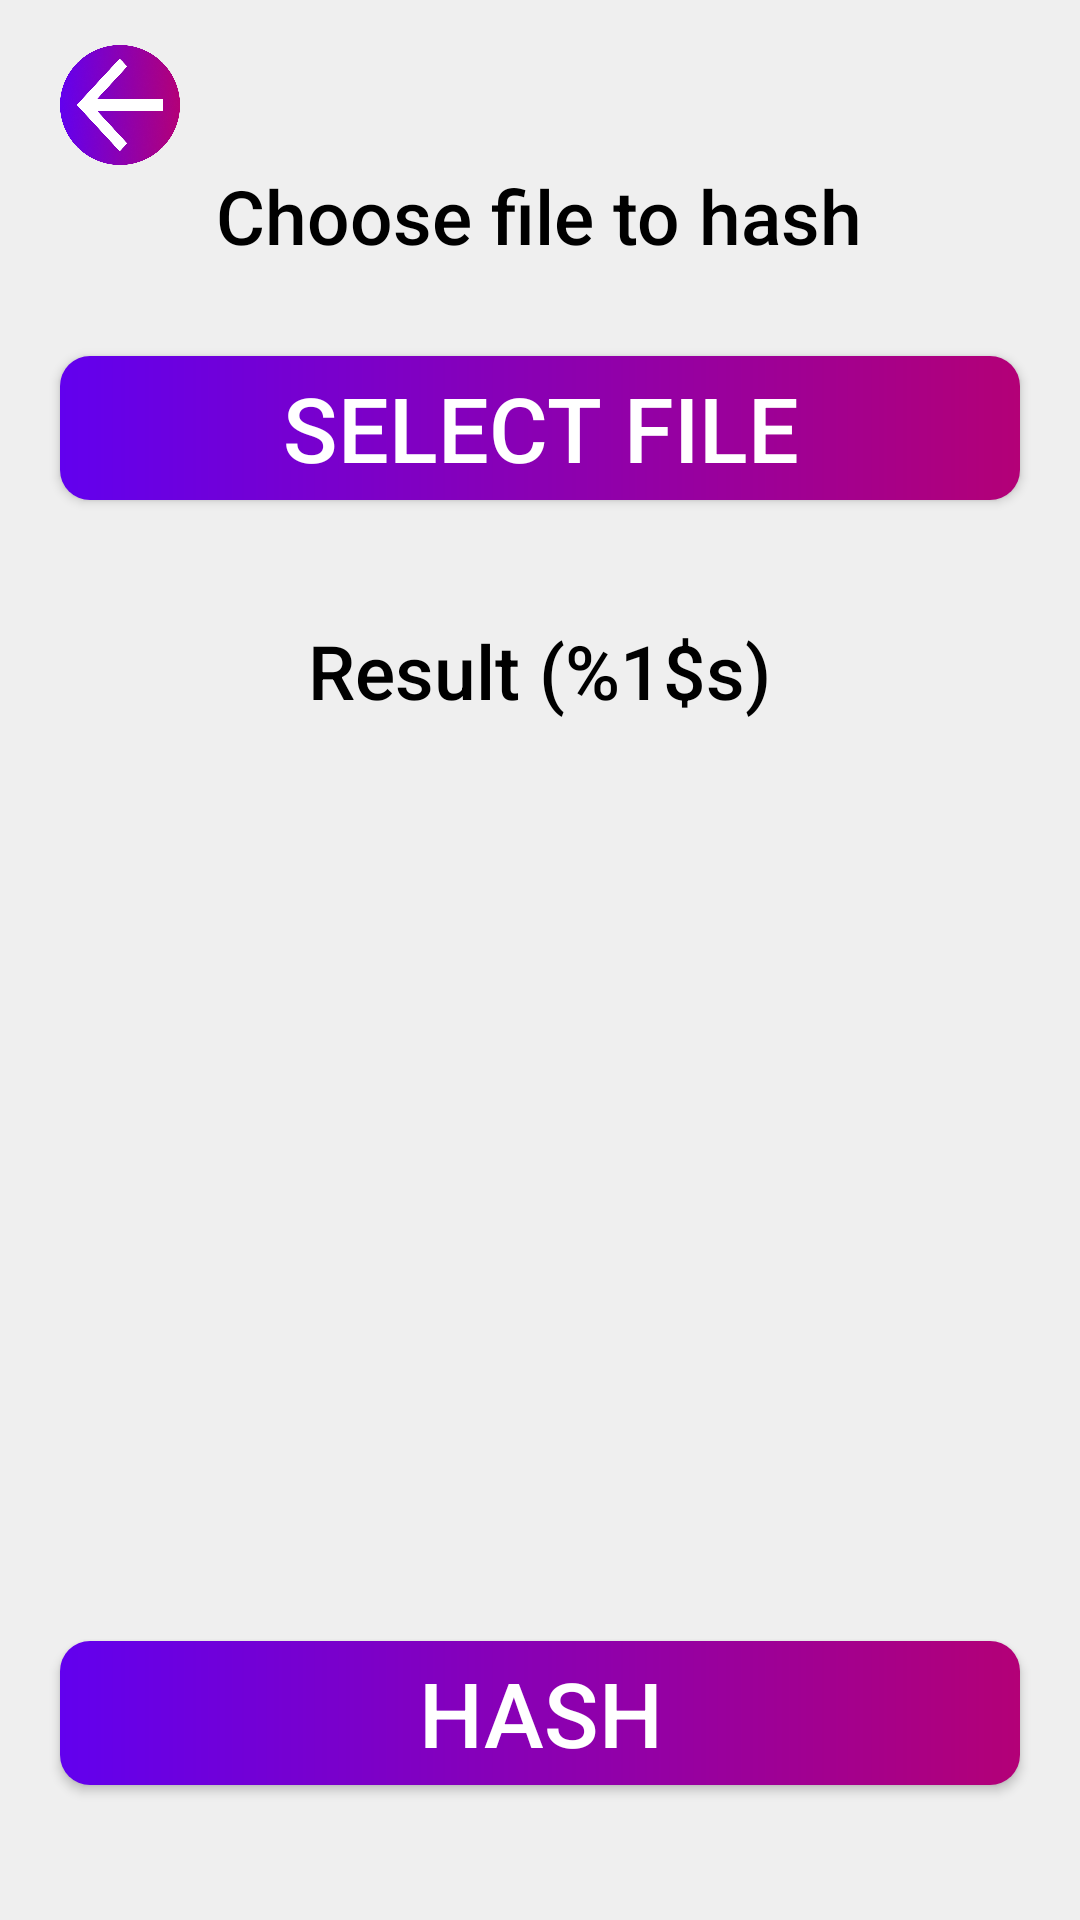

Where to tap for icons on this 1080 x 1920 app screen, as (x=x, y=y):
back: (x=120, y=105)
